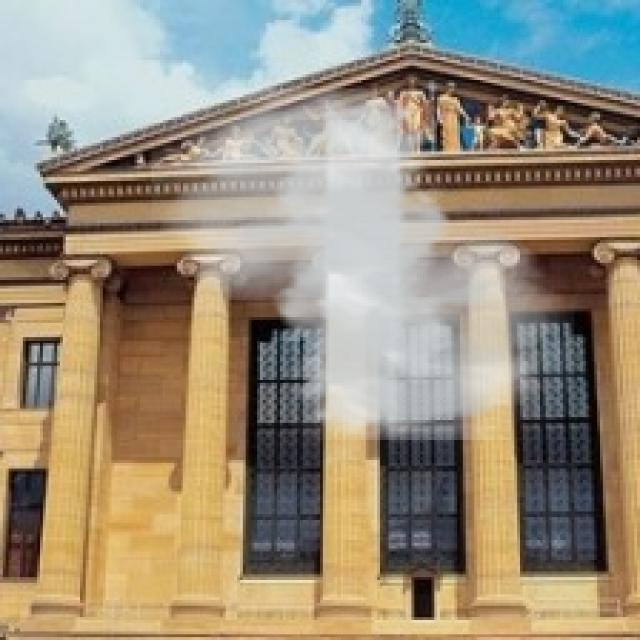smoke: (152, 89, 574, 440)
